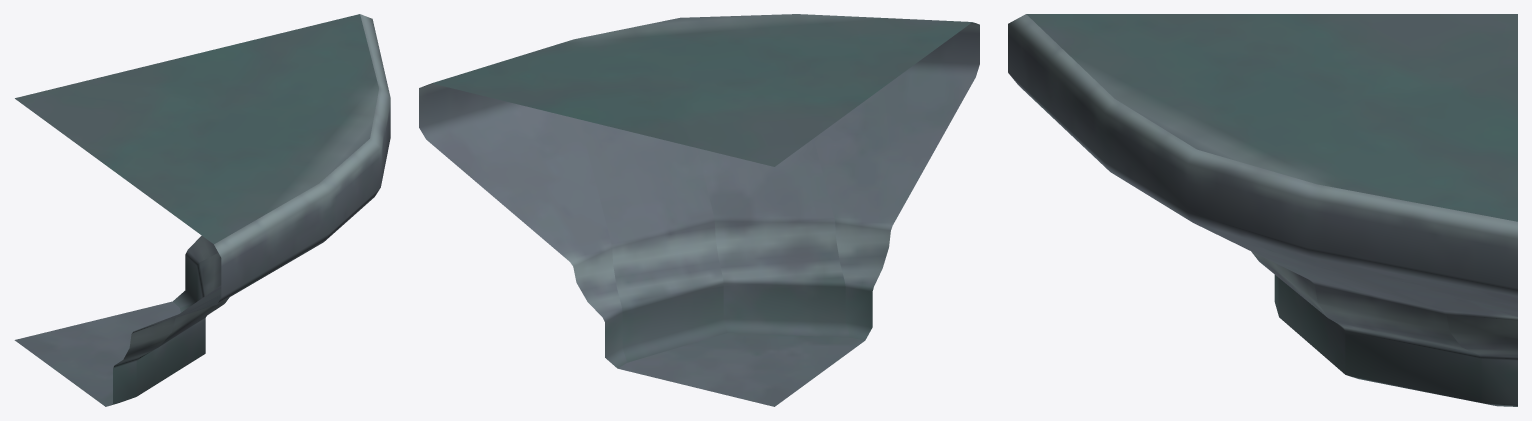
The model's file is TrimV2_End.fbx.
The picture shows the model from 3 angles, left to right: view 1: azimuth 30°, elevation 25°; view 2: azimuth 150°, elevation 25°; view 3: azimuth 270°, elevation 25°; orthographic projection. The views are drawn at different scales.
Visible parts, largest first — view 1: TrimV2_End; view 2: TrimV2_End; view 3: TrimV2_End.
Part boxes in pixels (box(x1,y1,x2,y2)): TrimV2_End: box(14, 14, 390, 406); TrimV2_End: box(419, 14, 979, 406); TrimV2_End: box(1008, 14, 1517, 406).
Size of the model in its own units: 59.95 by 38.65 by 59.95.
Materials: 1 (1 with a texture image).
